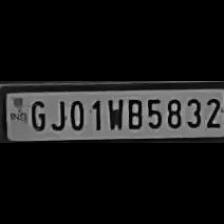0: (66, 96, 86, 132)
1: (88, 96, 104, 132)
2: (202, 94, 222, 128)
3: (182, 94, 202, 128)
5: (144, 95, 162, 129)
8: (163, 95, 183, 129)
B: (124, 95, 142, 129)
G: (26, 96, 46, 132)
J: (50, 96, 66, 132)
W: (104, 95, 124, 131)
